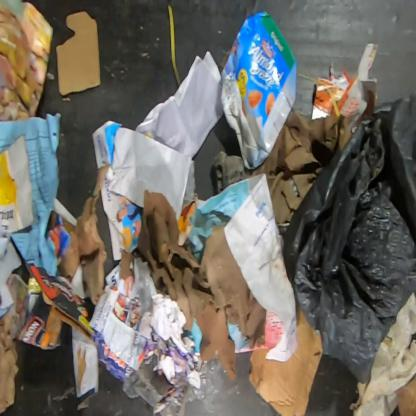cardboard: (218, 10, 297, 171), (248, 308, 323, 415), (310, 43, 380, 150), (15, 261, 95, 351), (0, 0, 54, 121), (56, 11, 101, 96), (0, 133, 35, 234)
soft_plastic: (281, 90, 415, 387)
